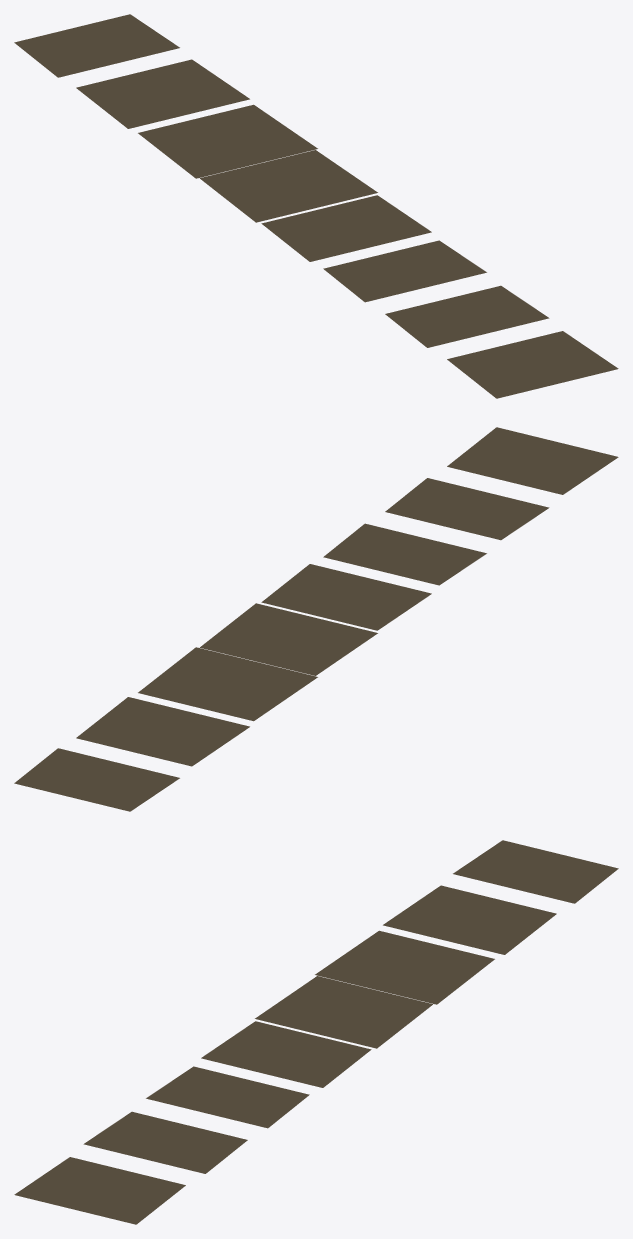
Rendered from decal_trodden_path.glb.
3 renders of one model, top to bottom at view 1: azimuth 30°, elevation 25°; view 2: azimuth 150°, elevation 25°; view 3: azimuth 330°, elevation 25°, orthographic.
Parts seen in each view (by area): view 1: decal_trodden_path; view 2: decal_trodden_path; view 3: decal_trodden_path.
Boxes of the visible parts, <box> form: decal_trodden_path: <box>14,14,618,398</box>; decal_trodden_path: <box>14,427,618,811</box>; decal_trodden_path: <box>14,840,618,1224</box>.
Bounding box in the file's own units: 0.8 × 0 × 5.5.
